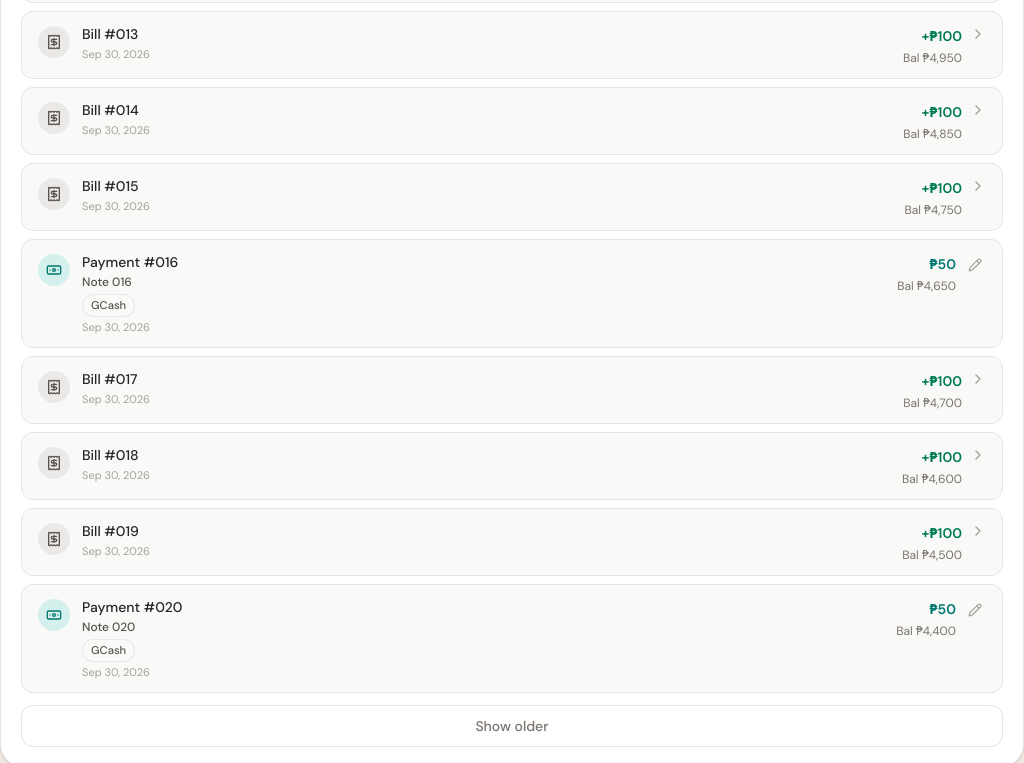
Test: PersonDetailPage lookup after a write: one call per settled statement (review round 1) › a write that ADDS a payment leg, with 40 rows loaded, costs exactly one lookup over the new loaded set
(page scrolled)
Step 1. Click the button "Show older" → {"x": 512, "y": 726}, box [21, 706, 1003, 748]
(page scrolled)
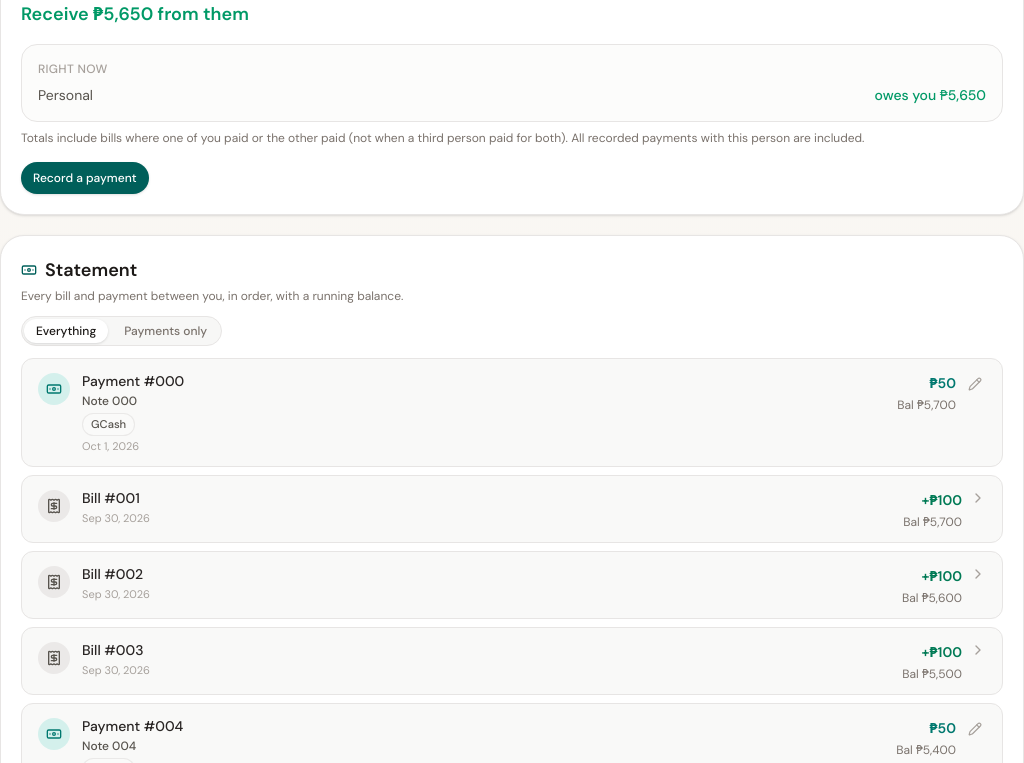
Expected: the button named "Edit payment" in the row of "Payment #000" is shown, [964, 373, 986, 395]
Result: the list item "Payment #000 Note 000 GCash Oct 1, 2026 ₱50 Bal ₱5,700" is shown at [21, 358, 1003, 467]
